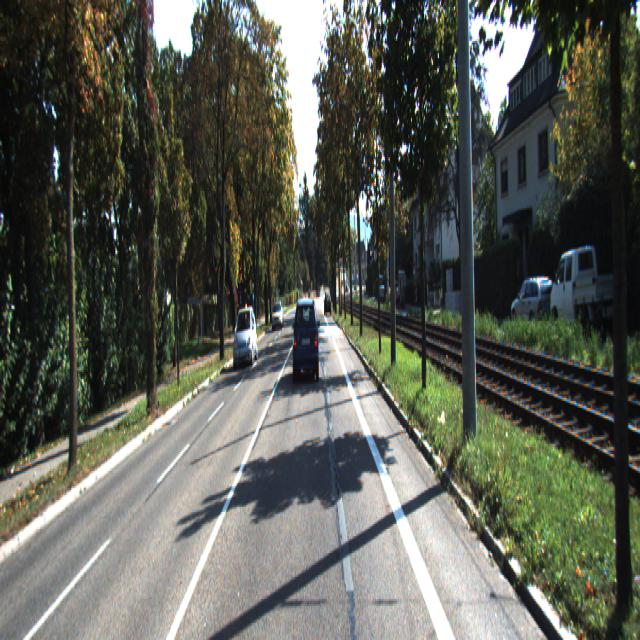Car: (549, 238, 627, 332), (510, 272, 557, 329), (292, 295, 320, 384), (233, 308, 258, 370), (271, 302, 284, 333)
